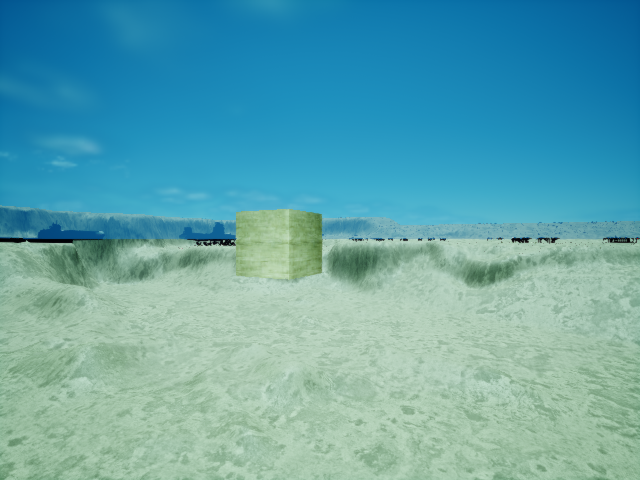Cube: (230, 198, 327, 288)
